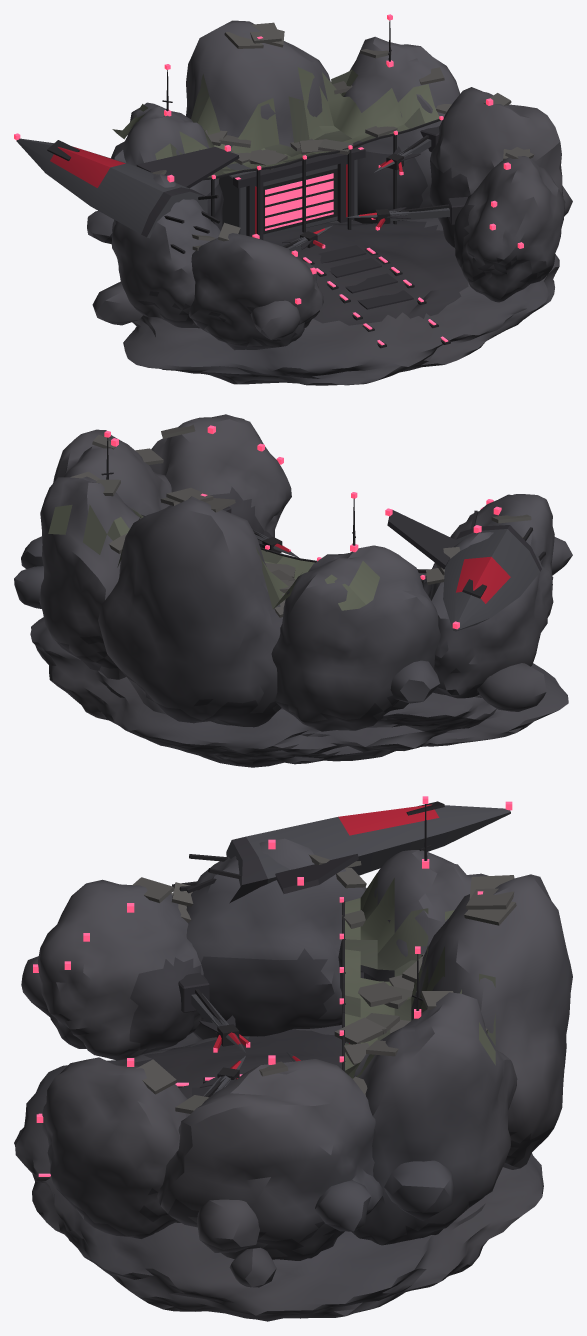
Rendered from corsair_nest.glb.
3 views of the same model, one above another, from view 1: azimuth 30°, elevation 25°; view 2: azimuth 150°, elevation 25°; view 3: azimuth 270°, elevation 25° (orthographic). The views are drawn at different scales.
Visible parts, largest first — view 1: den_rock, den_salvage, den_hangar_glow, den_lights; view 2: den_rock, den_salvage, den_lights; view 3: den_rock, den_salvage, den_lights.
Boxes of the visible parts, x1,y1,x2,y2 form: den_rock: (87, 20, 572, 385); den_salvage: (16, 20, 533, 348); den_hangar_glow: (265, 173, 448, 345); den_lights: (14, 14, 523, 304); den_rock: (14, 414, 572, 767); den_salvage: (48, 424, 545, 631); den_lights: (104, 425, 501, 629); den_rock: (14, 838, 572, 1321); den_salvage: (36, 801, 516, 1180); den_lights: (33, 796, 512, 1122).
Bounding box in the file's own units: 99.41 × 55.69 × 77.29.
